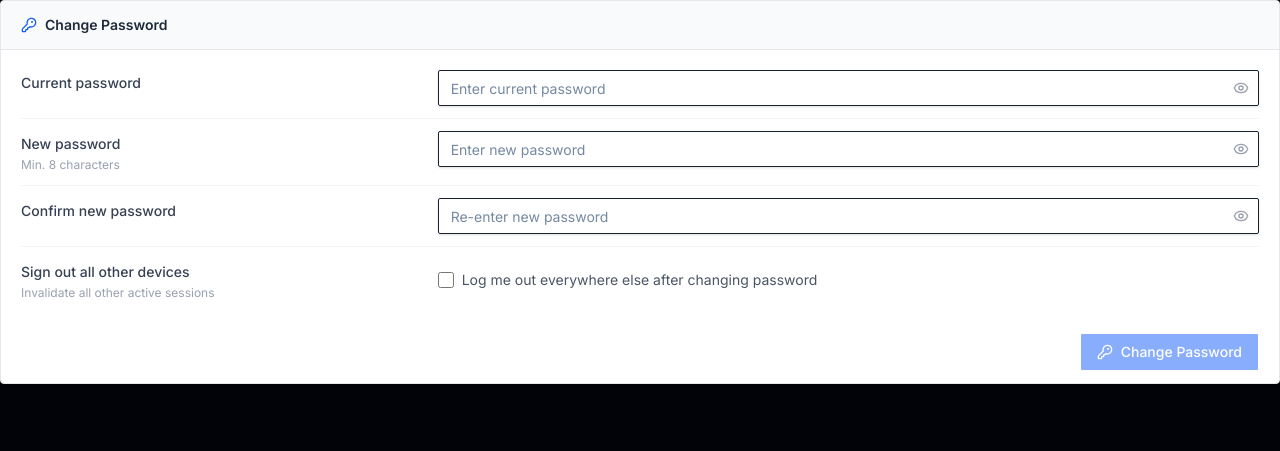
ChangePasswordSection — wrong current password › displays the error message returned by the server when the current password is wrong
Type "wrong-password" into the password field with placeholder "Enter current password".
click(848, 88); type("wrong-password")  # box [438,70,1259,106]
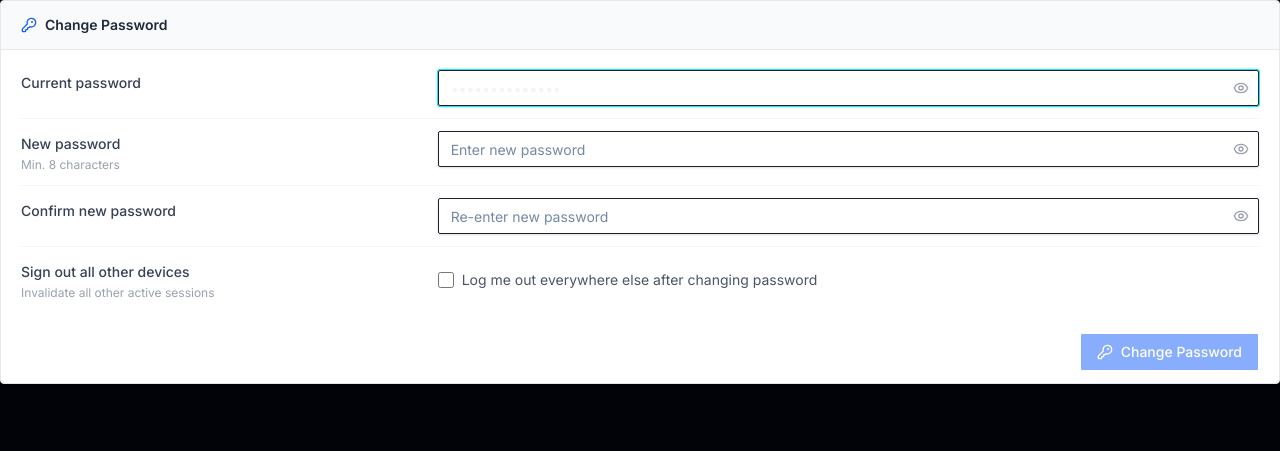
Type "NewValid1!" into the password field with placeholder "Enter new password".
click(848, 149); type("NewValid1!")  # box [438,131,1259,167]
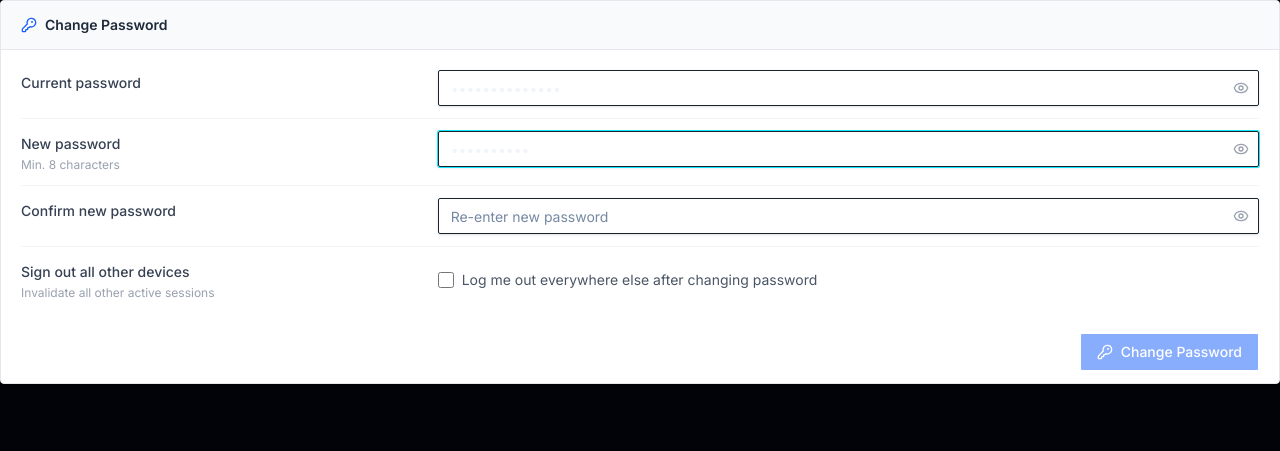
Type "NewValid1!" into the password field with placeholder "Re-enter new password".
click(848, 216); type("NewValid1!")  # box [438,198,1259,234]
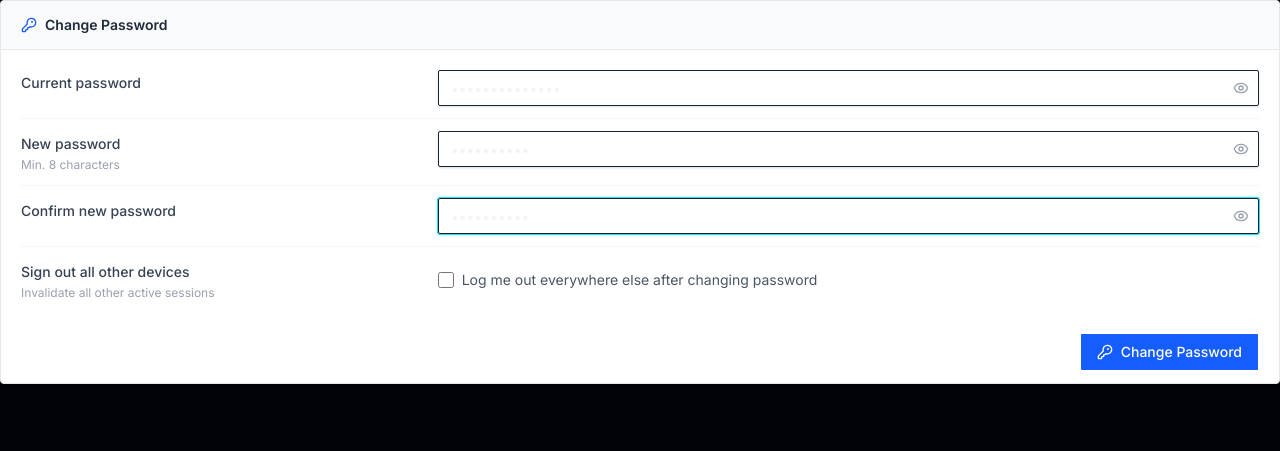
Click the button "Change Password".
click(1169, 352)  # box [1080,333,1259,371]
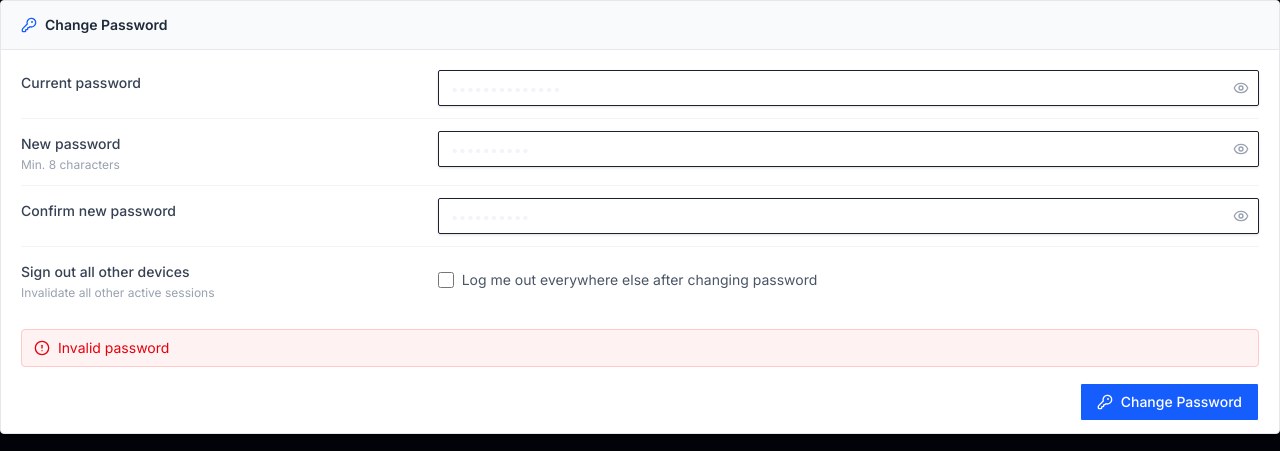
Result: the message reads "Invalid password" at [58,339,169,356]
